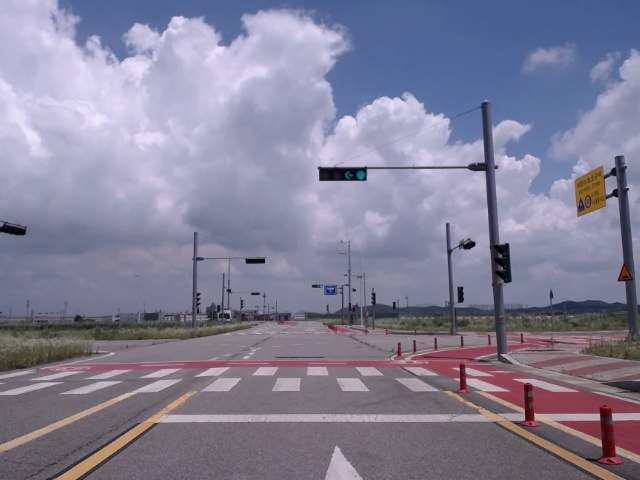all_green_4: (319, 165, 365, 180)
